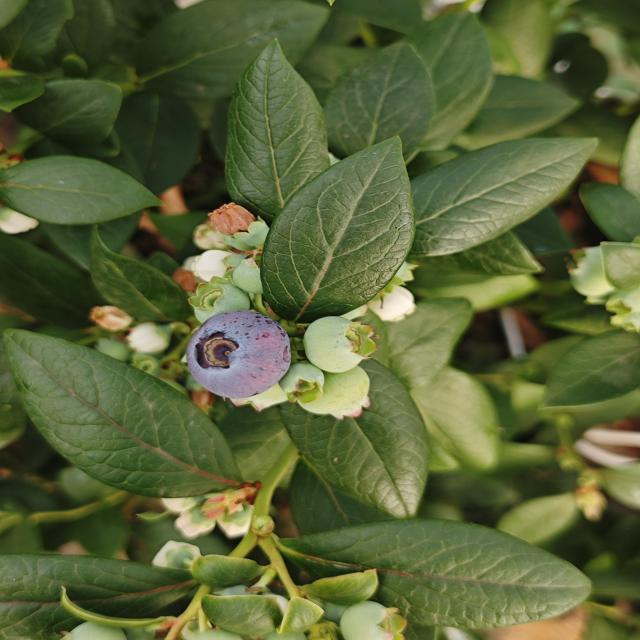ripe: (180, 306, 290, 402)
